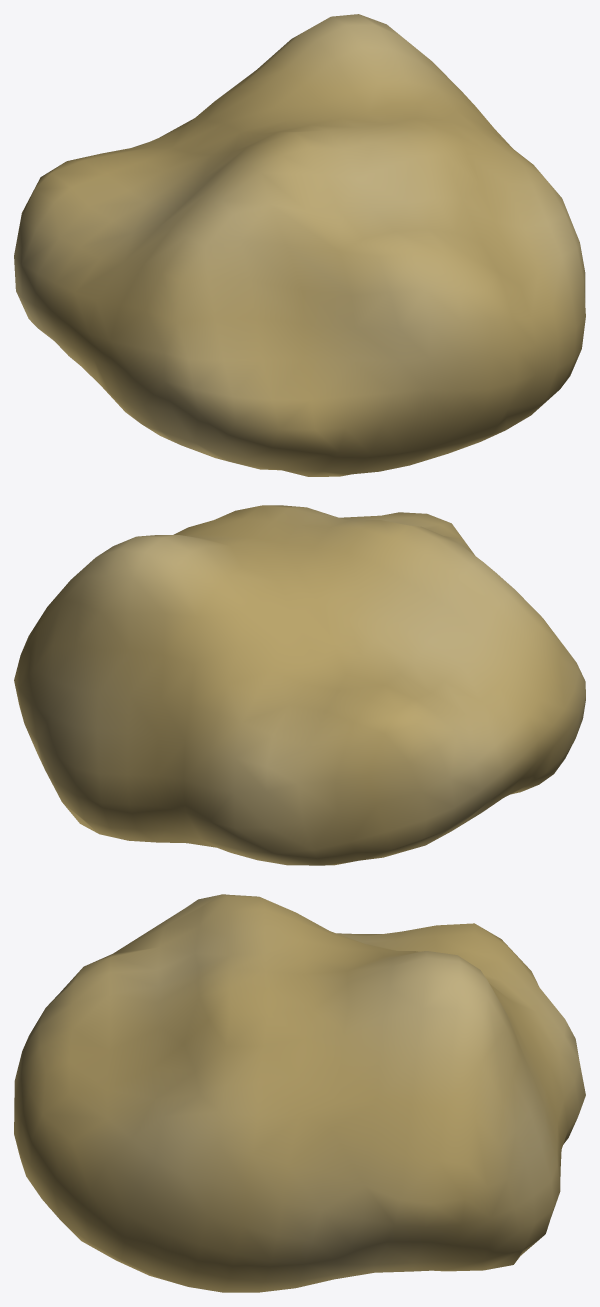
File: Masa.FBX
The picture shows the model from 3 angles, top to bottom: view 1: azimuth 30°, elevation 25°; view 2: azimuth 150°, elevation 25°; view 3: azimuth 270°, elevation 25°; orthographic projection. The views are drawn at different scales.
Visible parts, largest first — view 1: Masa; view 2: Masa; view 3: Masa.
Part boxes in pixels (x1,y1,x2,y2): Masa: [14, 14, 585, 476]; Masa: [14, 505, 585, 865]; Masa: [14, 894, 585, 1292].
Bounding box in the file's own units: 83.06 × 83.22 × 50.81.
